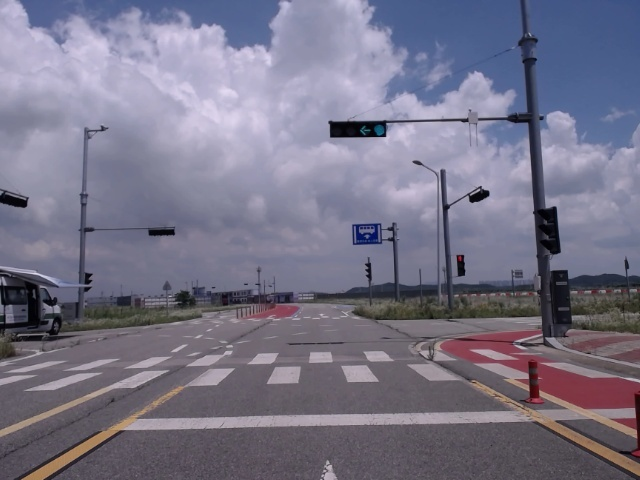all_green_4: (331, 123, 383, 137)
